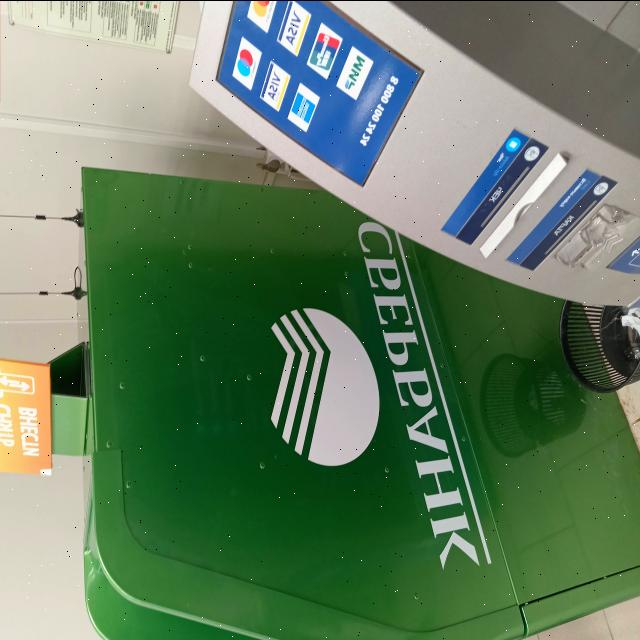bank: (73, 161, 640, 640)
